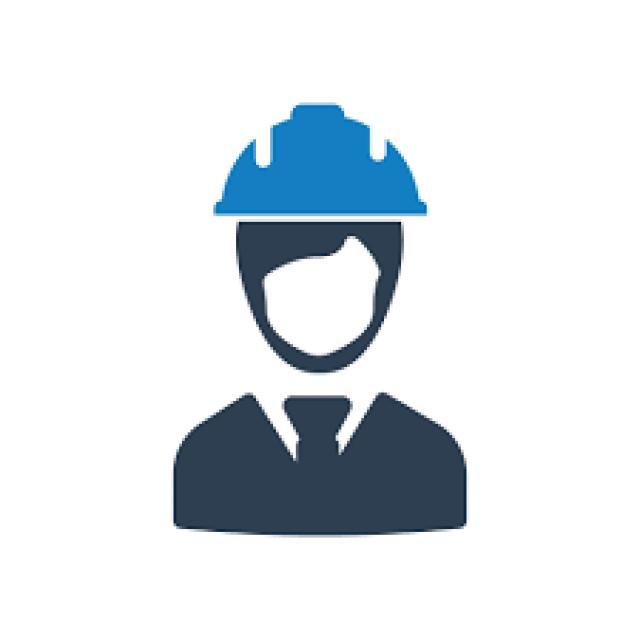Safety-Helmet: (211, 102, 435, 230)
